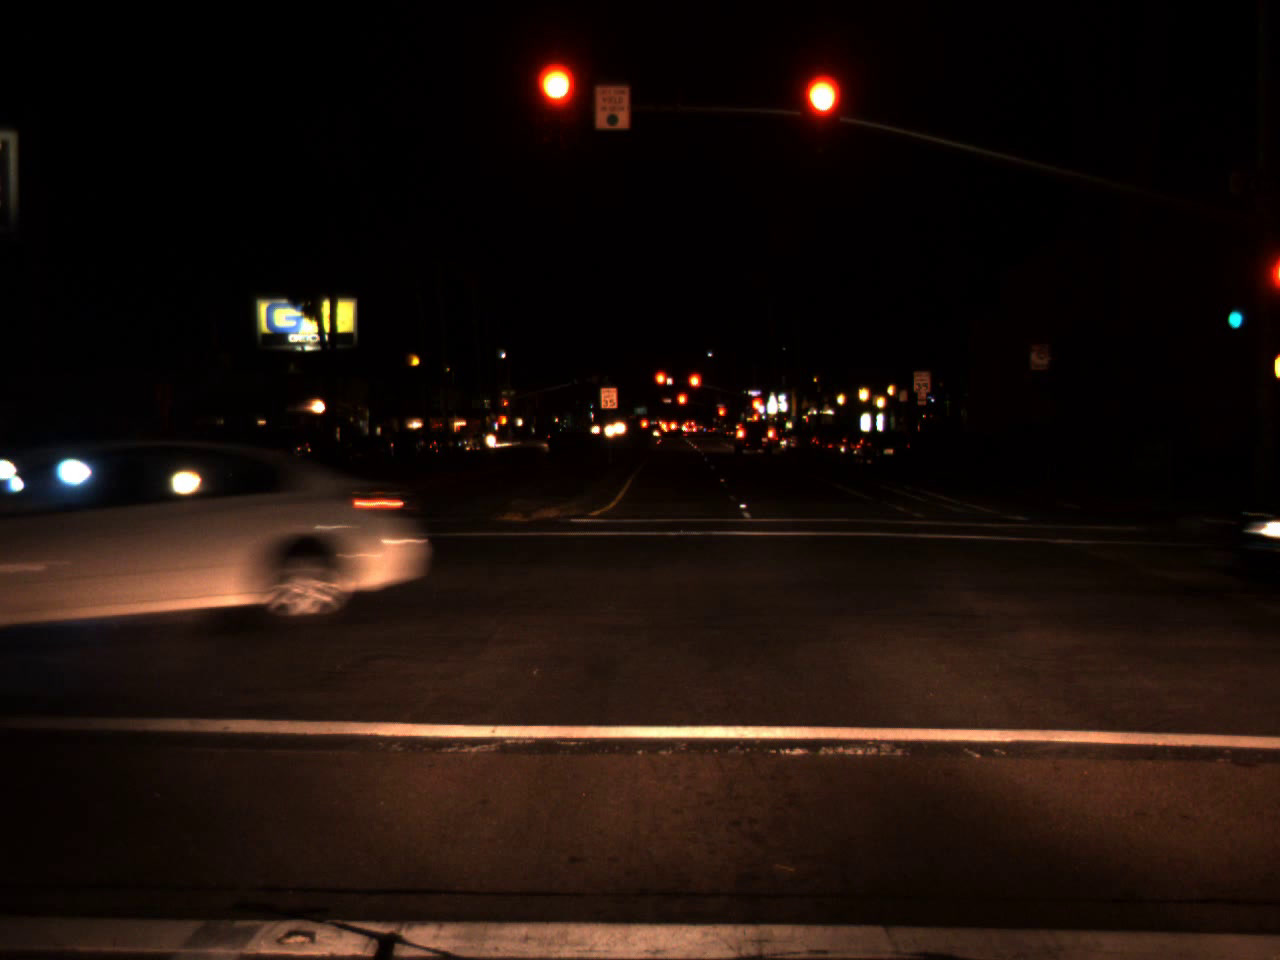stop: (536, 64, 577, 142), (802, 75, 842, 153), (653, 369, 668, 401), (686, 372, 702, 401), (675, 391, 688, 418), (750, 396, 763, 414), (717, 406, 726, 427), (503, 399, 509, 412)
